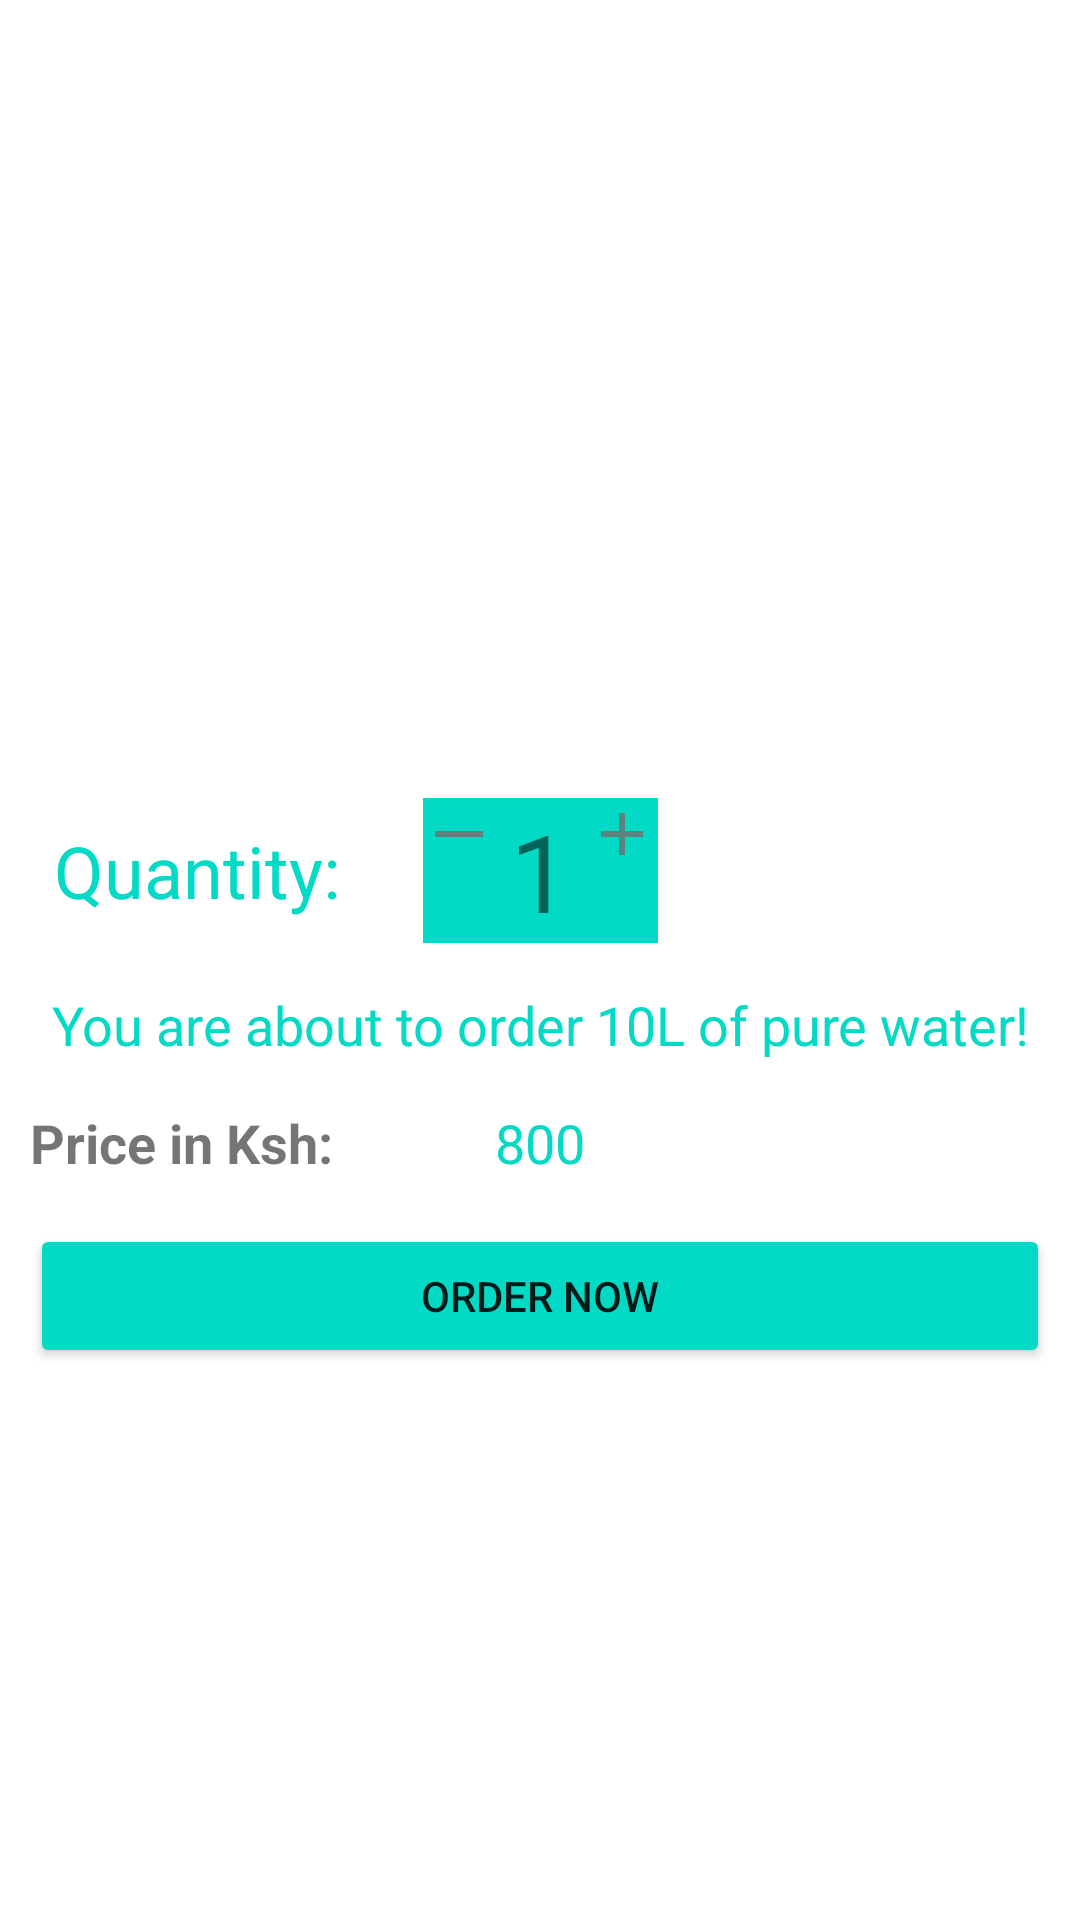

Named icons in this screenshot (1080w x 1920h) and their centers, (x,y):
add: (622,834)
